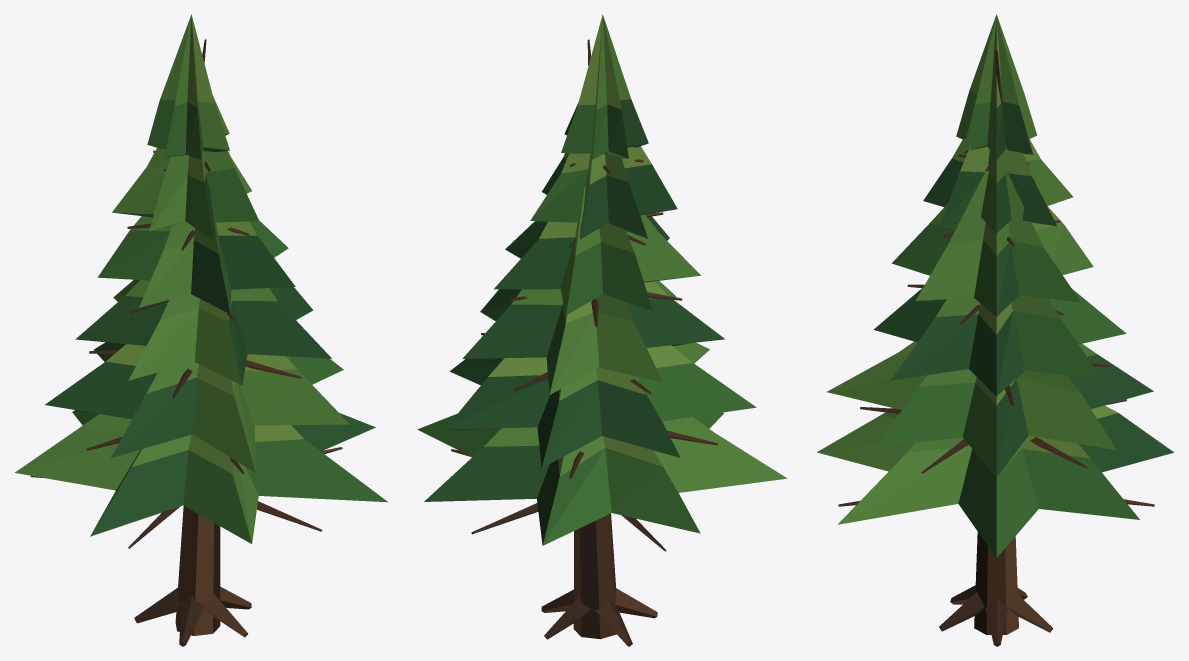
File: tree_larch_green.obj
3 views of the same model, side by side, from view 1: azimuth 30°, elevation 25°; view 2: azimuth 150°, elevation 25°; view 3: azimuth 270°, elevation 25° (orthographic).
Visible parts, largest first — view 1: tree_larch_green; view 2: tree_larch_green; view 3: tree_larch_green.
Boxes of the visible parts, x1,y1,x2,y2 form: tree_larch_green: [15, 14, 387, 646]; tree_larch_green: [417, 14, 787, 646]; tree_larch_green: [817, 14, 1173, 646].
Size of the model in its own units: 363 by 650 by 346.
Materials: 1 (1 with a texture image).
